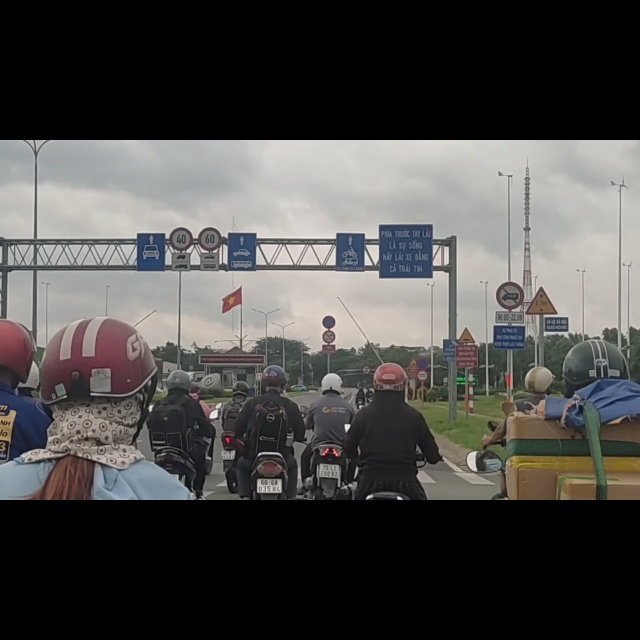bien_chi_dan: (526, 260, 559, 311), (496, 251, 524, 301), (169, 156, 193, 197), (198, 155, 222, 196), (458, 333, 477, 363), (443, 353, 457, 392), (323, 338, 335, 363), (417, 383, 429, 408), (323, 312, 336, 335), (417, 409, 429, 430), (361, 401, 371, 418)
